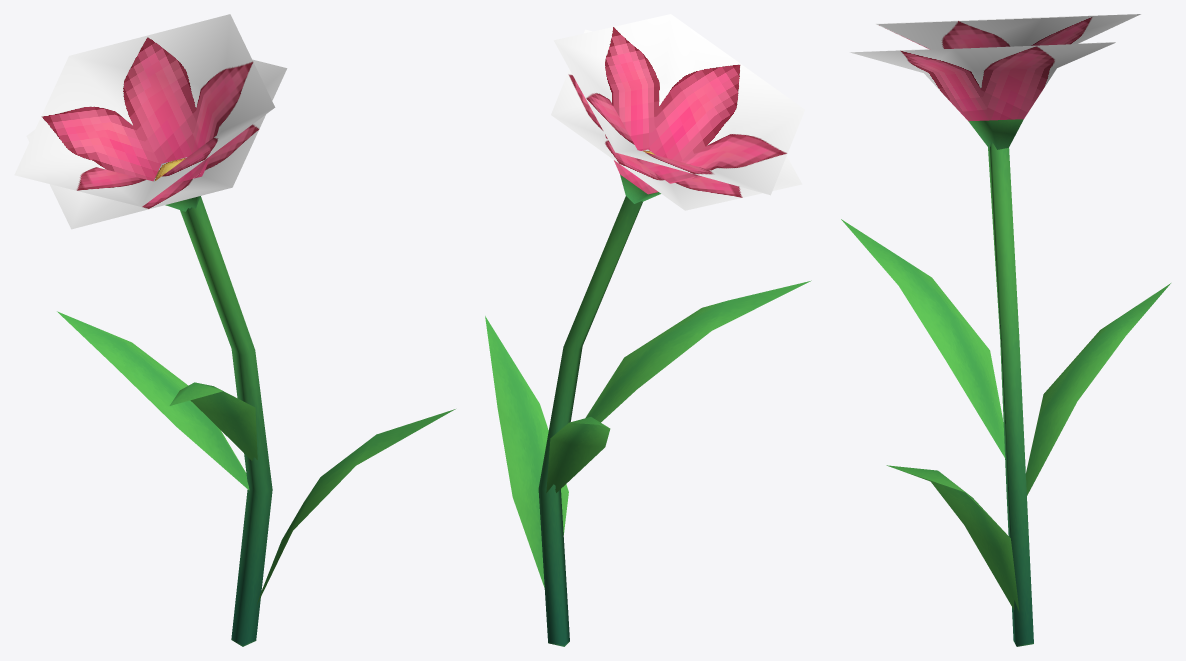
File: Flower_Bellflower_3.glb
The picture shows the model from 3 angles, left to right: view 1: azimuth 30°, elevation 25°; view 2: azimuth 150°, elevation 25°; view 3: azimuth 270°, elevation 25°; orthographic projection. The views are drawn at different scales.
Parts seen in each view (by area): view 1: Cone.091_Cone.115, Cube.143_Cube.258, object6.092_object6.036, Cone.092_Cone.116, object6.091_object6.035, object6.095_object6.039; view 2: Cone.091_Cone.115, Cube.143_Cube.258, object6.095_object6.039, Cone.092_Cone.116, object6.091_object6.035, object6.092_object6.036; view 3: Cube.143_Cube.258, Cone.092_Cone.116, object6.091_object6.035, Cone.091_Cone.115, object6.092_object6.036, object6.095_object6.039, Cone.093_Cone.117.
Boxes of the visible parts, x1,y1,x2,y2 form: Cone.091_Cone.115: [14, 14, 275, 206]; Cube.143_Cube.258: [180, 196, 272, 646]; object6.092_object6.036: [57, 311, 249, 490]; Cone.092_Cone.116: [26, 59, 287, 229]; object6.091_object6.035: [169, 382, 257, 460]; object6.095_object6.039: [257, 409, 455, 604]; Cone.091_Cone.115: [553, 14, 804, 195]; Cube.143_Cube.258: [538, 196, 642, 646]; object6.095_object6.039: [485, 316, 568, 587]; Cone.092_Cone.116: [551, 29, 802, 210]; object6.091_object6.035: [585, 280, 811, 422]; object6.092_object6.036: [546, 417, 610, 492]; Cube.143_Cube.258: [988, 142, 1033, 646]; Cone.092_Cone.116: [850, 42, 1115, 121]; object6.091_object6.035: [841, 219, 1005, 458]; Cone.091_Cone.115: [876, 14, 1140, 49]; object6.092_object6.036: [1026, 283, 1170, 495]; object6.095_object6.039: [886, 465, 1019, 612]; Cone.093_Cone.117: [968, 119, 1023, 149].
Bounding box in the file's own units: 0.3874 × 0.6279 × 0.3023.
4 materials, 4 textured.
